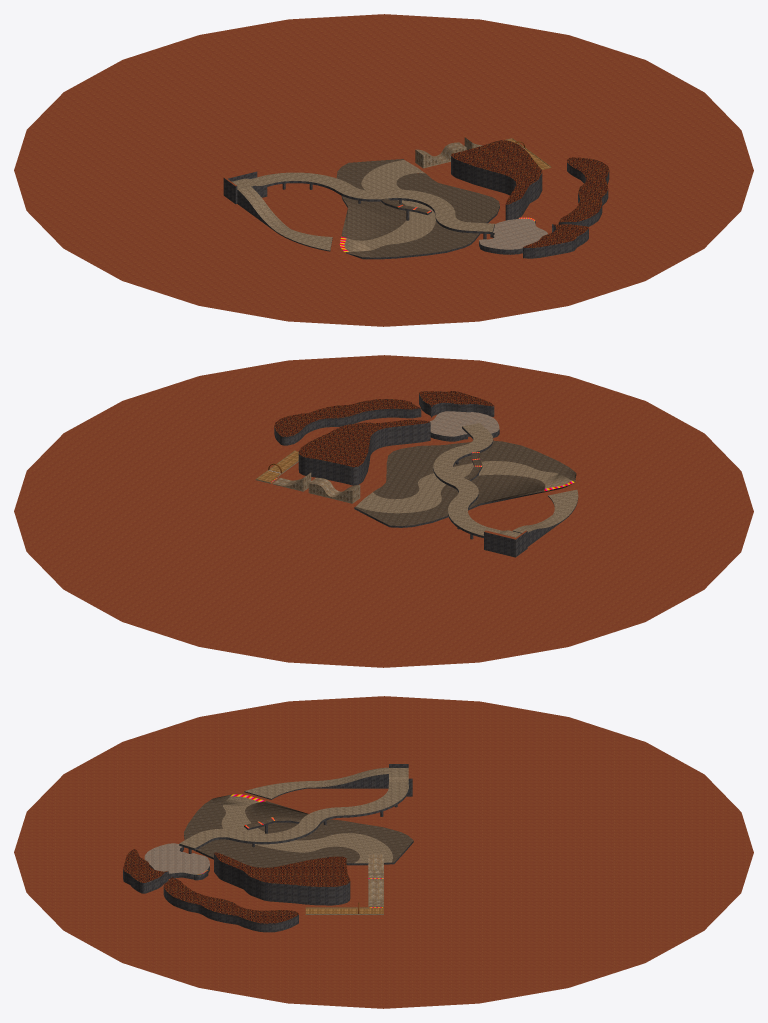
3 renders of one model, top to bottom at view 1: azimuth 30°, elevation 25°; view 2: azimuth 150°, elevation 25°; view 3: azimuth 270°, elevation 25°, orthographic.
Parts seen in each view (by area): view 1: lava.003, off_road, road.030, wall.014, lava_top, road_ending; view 2: lava.003, off_road, wall.014, road.030, lava_top, road_ending, start_wall; view 3: lava.003, road.030, wall.014, off_road, lava_top, road_ending, start_road.001, wood.008.
Part boxes in pixels (<box>): lava.003: <box>14,14,753,326</box>; off_road: <box>336,159,499,257</box>; road.030: <box>232,160,494,251</box>; wall.014: <box>223,156,609,259</box>; lava_top: <box>451,140,609,247</box>; road_ending: <box>479,218,547,249</box>; lava.003: <box>14,355,753,667</box>; off_road: <box>354,440,576,525</box>; wall.014: <box>274,394,578,557</box>; road.030: <box>356,423,578,537</box>; lava_top: <box>274,391,493,467</box>; road_ending: <box>430,411,499,436</box>; start_wall: <box>255,450,360,503</box>; lava.003: <box>14,696,753,1008</box>; road.030: <box>179,767,408,863</box>; wall.014: <box>123,764,413,932</box>; off_road: <box>184,794,413,867</box>; lava_top: <box>123,849,350,923</box>; road_ending: <box>144,843,209,874</box>; start_road.001: <box>368,854,383,905</box>; wood.008: <box>305,906,383,913</box>.
Bounding box in the file's own units: 200340 × 6025 × 200340.
Materials: 12 (12 with a texture image).
